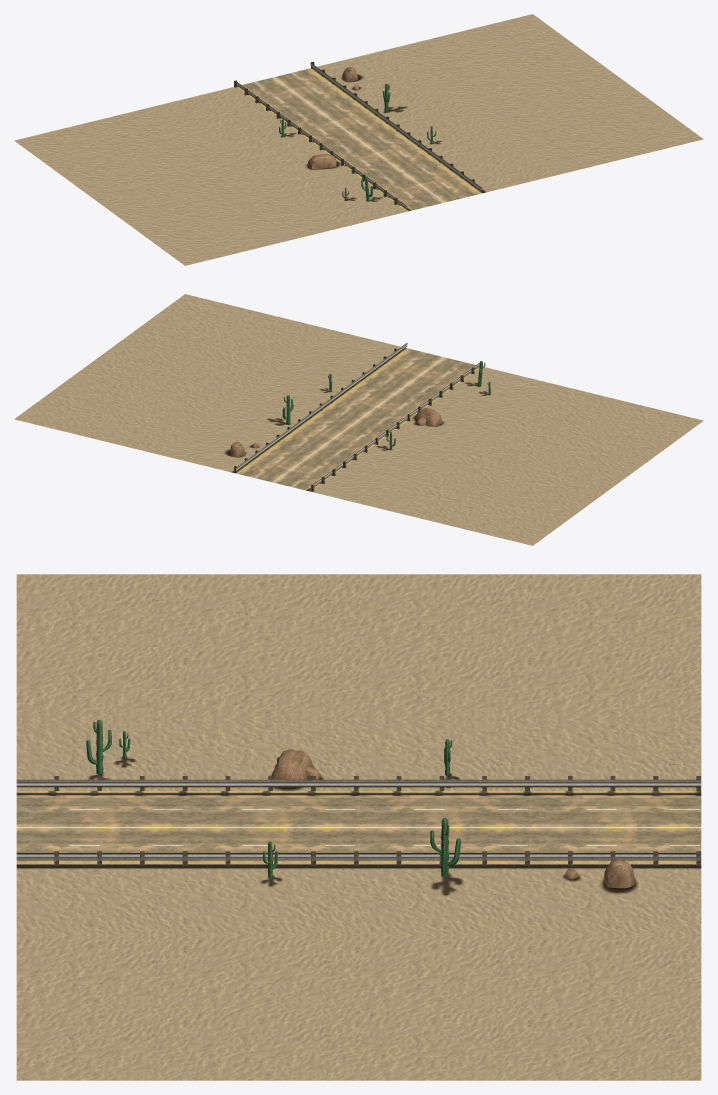
3 renders of one model, top to bottom at view 1: azimuth 30°, elevation 25°; view 2: azimuth 150°, elevation 25°; view 3: azimuth 270°, elevation 25°, orthographic. The views are drawn at different scales.
Visible parts, largest first — view 1: scene1, road, rock1, Box002; view 2: scene1, road, rock1, Box002; view 3: scene1, road, Box002, rock1.
Boxes of the visible parts, x1,y1,x2,y2 form: scene1: [14, 14, 703, 265]; road: [234, 61, 481, 211]; rock1: [307, 67, 359, 169]; Box002: [279, 83, 436, 201]; scene1: [14, 294, 703, 545]; road: [234, 343, 479, 491]; rock1: [230, 408, 442, 457]; Box002: [282, 361, 490, 449]; scene1: [16, 574, 701, 1080]; road: [16, 776, 701, 865]; Box002: [86, 720, 461, 877]; rock1: [272, 749, 635, 888].
Size of the model in its own units: 140 by 7.87 by 80.
